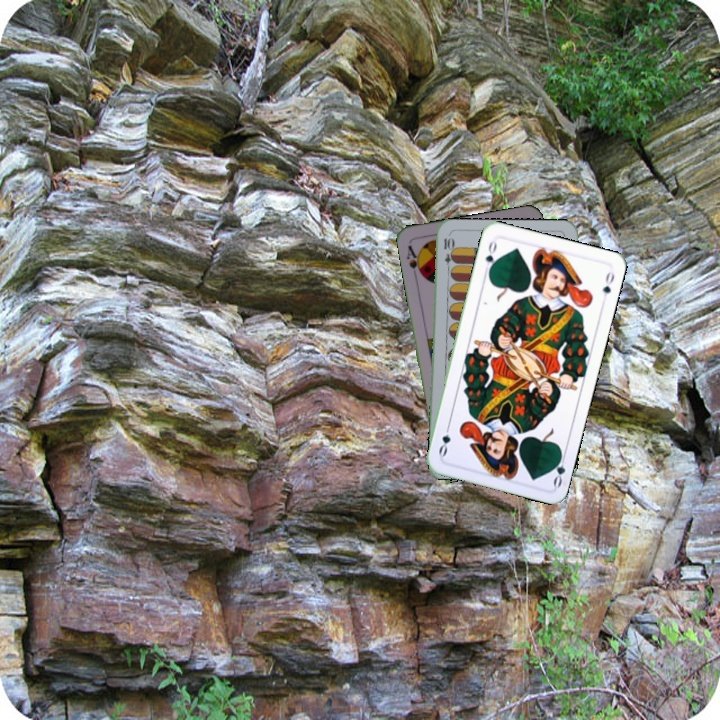E10: (440, 234, 454, 274)
GO: (548, 448, 569, 489), (481, 237, 499, 276)
SA: (402, 241, 425, 280)
